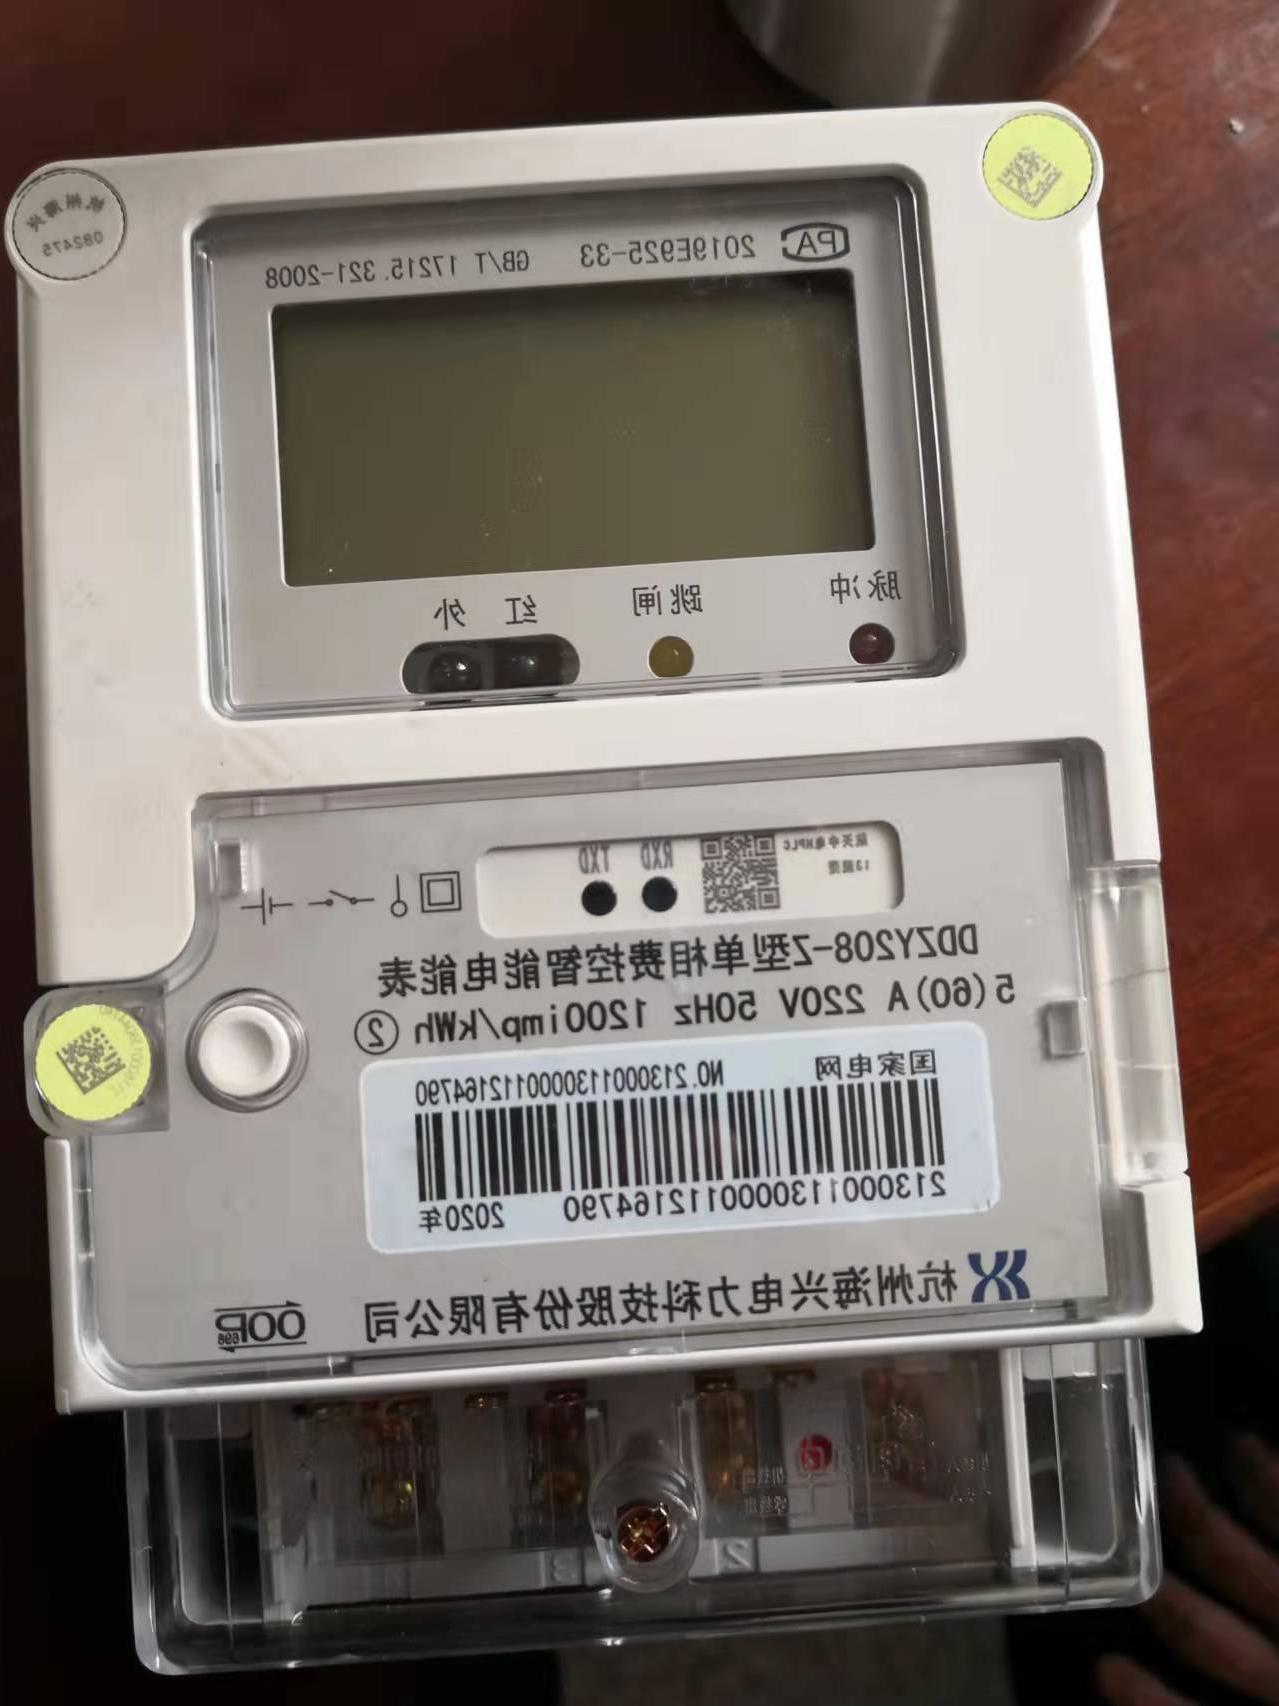digital: (1, 98, 1251, 1415)
